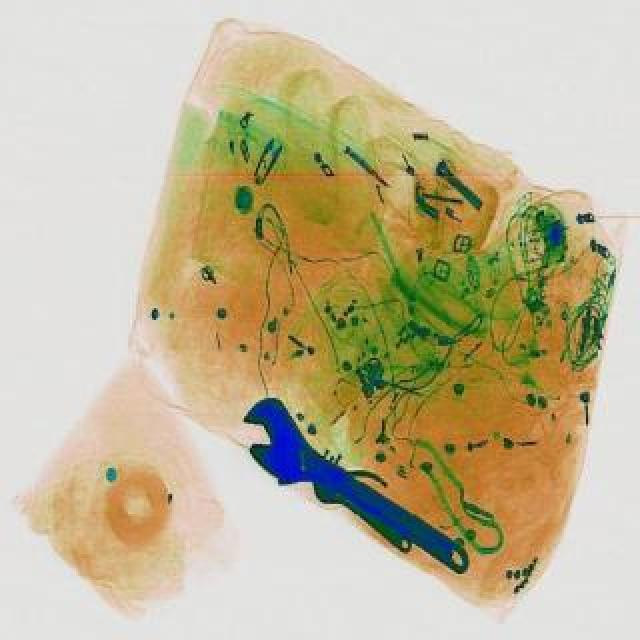scissors: (222, 388, 490, 600)
